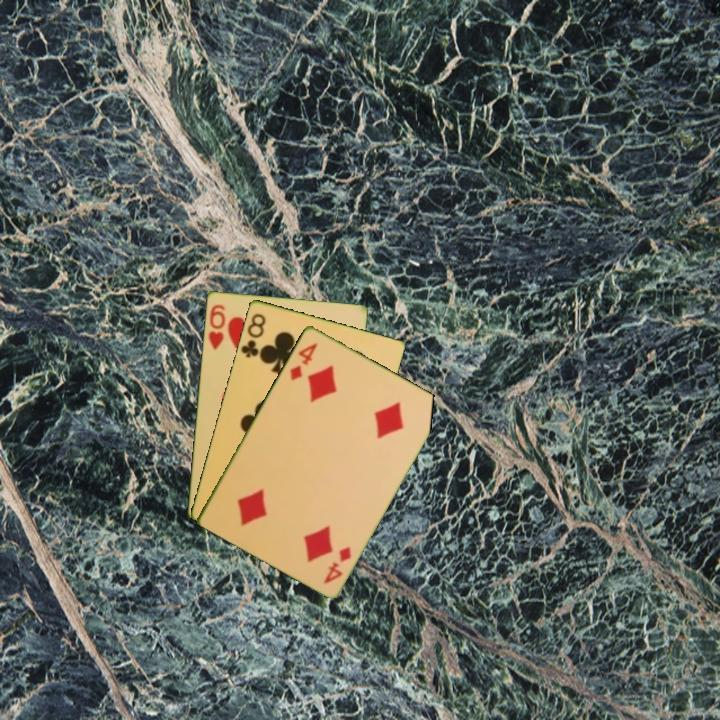4d: (320, 542, 354, 587), (286, 339, 320, 383)
6h: (204, 300, 228, 352)
8c: (237, 309, 268, 360)
